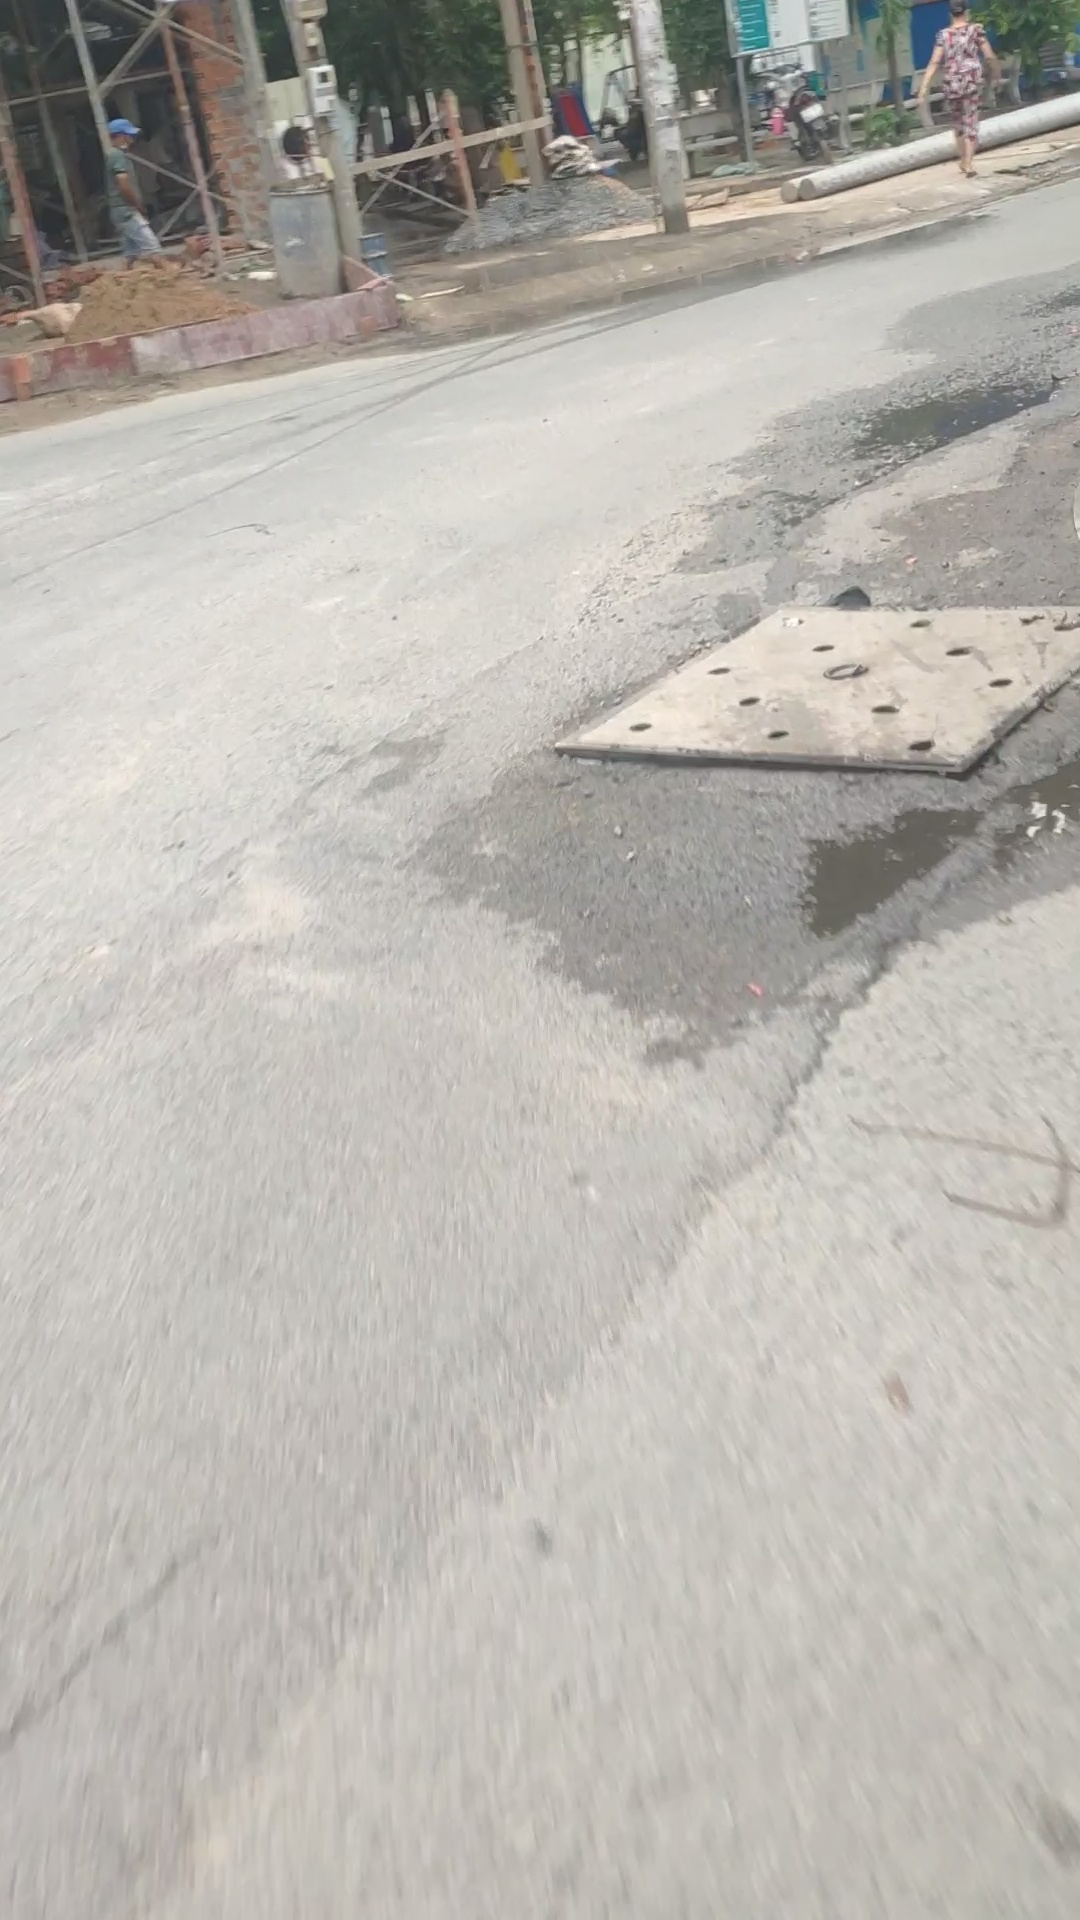hole: (766, 793, 1039, 942), (847, 361, 1080, 472)
